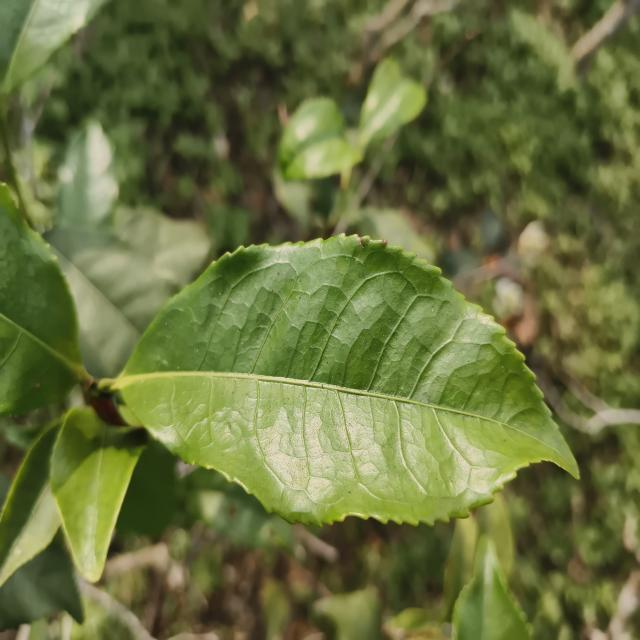Leaf: (111, 235, 578, 525), (0, 183, 88, 415), (50, 408, 147, 581), (58, 249, 178, 377), (0, 417, 62, 586), (0, 0, 105, 94), (182, 467, 293, 550), (452, 536, 530, 640), (279, 98, 362, 180), (58, 122, 118, 226), (358, 58, 426, 149), (314, 588, 382, 640)
